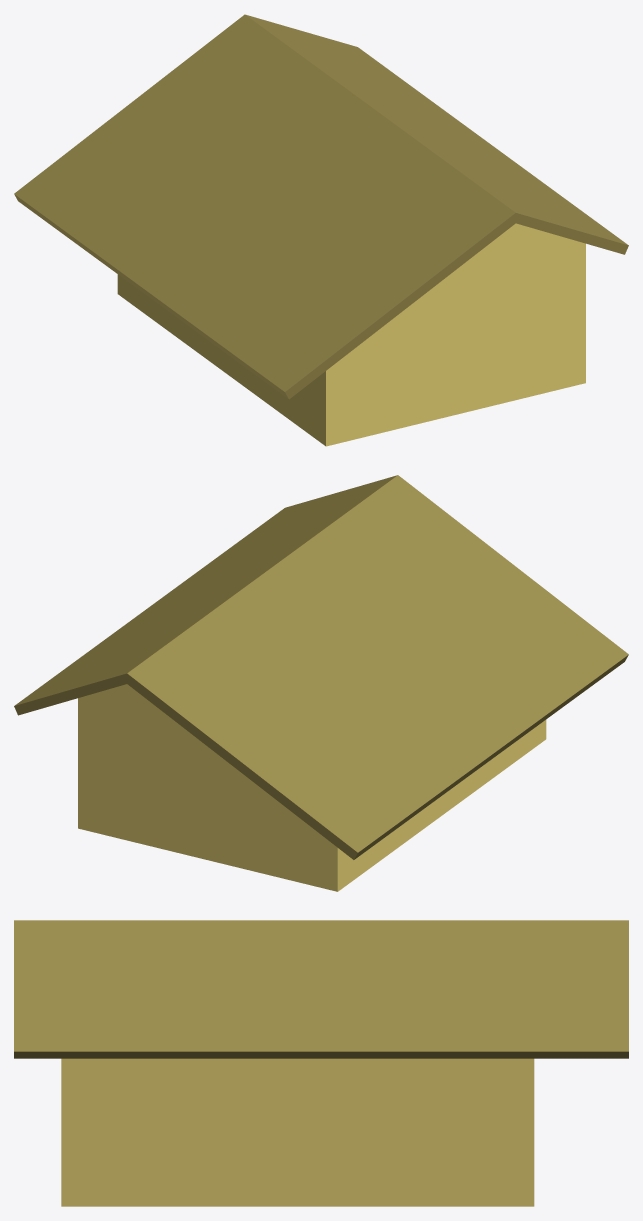
The model's file is result.glb.
3 renders of one model, top to bottom at view 1: azimuth 30°, elevation 25°; view 2: azimuth 150°, elevation 25°; view 3: azimuth 270°, elevation 25°, orthographic. The views are drawn at different scales.
Visible parts, largest first — view 1: 88c17399-3cd2-4ef8-9417-1d2b584881b3__undefined (×2), b0bdbaad-de80-4e41-8211-83e102e7aaf2__undefined; view 2: 88c17399-3cd2-4ef8-9417-1d2b584881b3__undefined (×2), b0bdbaad-de80-4e41-8211-83e102e7aaf2__undefined; view 3: 88c17399-3cd2-4ef8-9417-1d2b584881b3__undefined, b0bdbaad-de80-4e41-8211-83e102e7aaf2__undefined.
Boxes of the visible parts, box(x1,y1,x2,y2) form: 88c17399-3cd2-4ef8-9417-1d2b584881b3__undefined (×2): box(14, 14, 628, 399); b0bdbaad-de80-4e41-8211-83e102e7aaf2__undefined: box(117, 223, 585, 446); 88c17399-3cd2-4ef8-9417-1d2b584881b3__undefined (×2): box(14, 475, 628, 859); b0bdbaad-de80-4e41-8211-83e102e7aaf2__undefined: box(78, 684, 546, 891); 88c17399-3cd2-4ef8-9417-1d2b584881b3__undefined: box(14, 920, 628, 1058); b0bdbaad-de80-4e41-8211-83e102e7aaf2__undefined: box(61, 1058, 534, 1206).
Bounding box in the file's own units: 953 × 550 × 1300.
